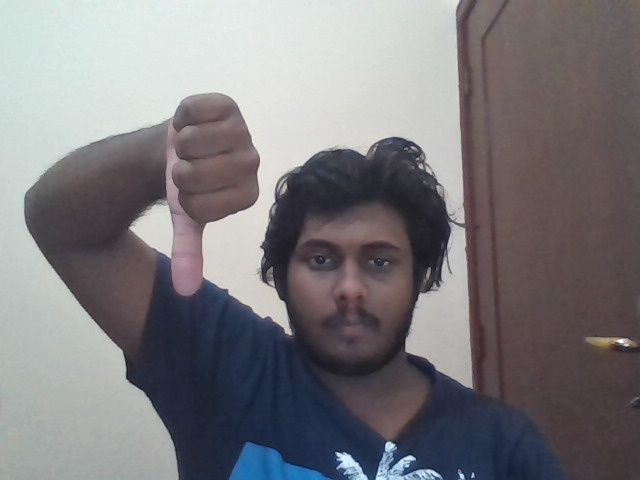thumbsdown: (164, 93, 261, 297)
